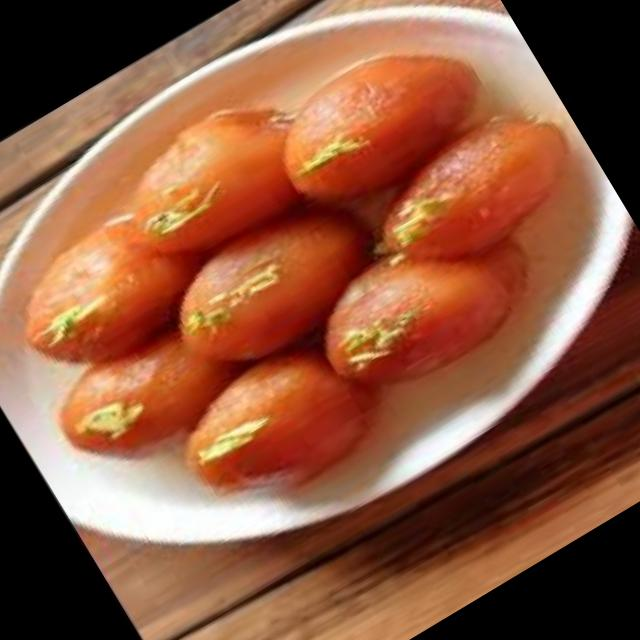gulab_jamun: (297, 193, 550, 413), (153, 176, 400, 386), (95, 72, 336, 286), (0, 180, 239, 394), (162, 316, 400, 527), (258, 15, 496, 224), (358, 92, 588, 291), (42, 291, 266, 482)
